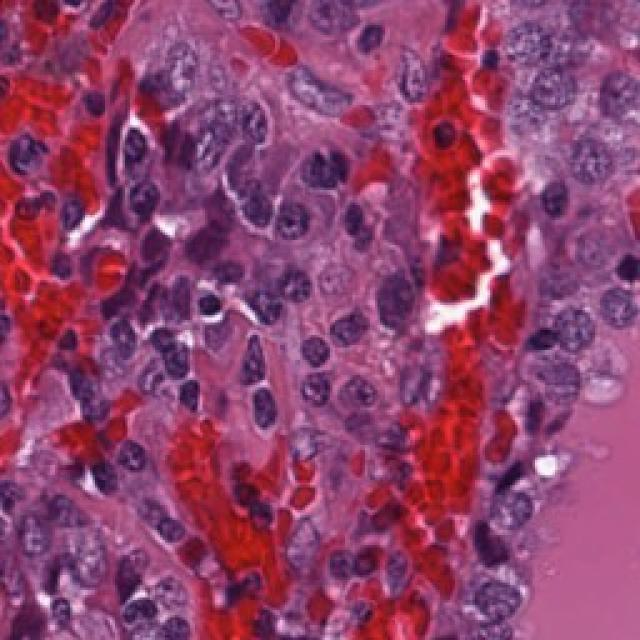abnormal: (47, 506, 132, 602), (314, 353, 395, 431), (512, 51, 593, 128), (391, 33, 448, 123), (590, 42, 640, 138), (465, 577, 528, 639), (261, 184, 319, 249), (590, 260, 640, 332), (545, 305, 602, 367), (568, 126, 616, 184)
